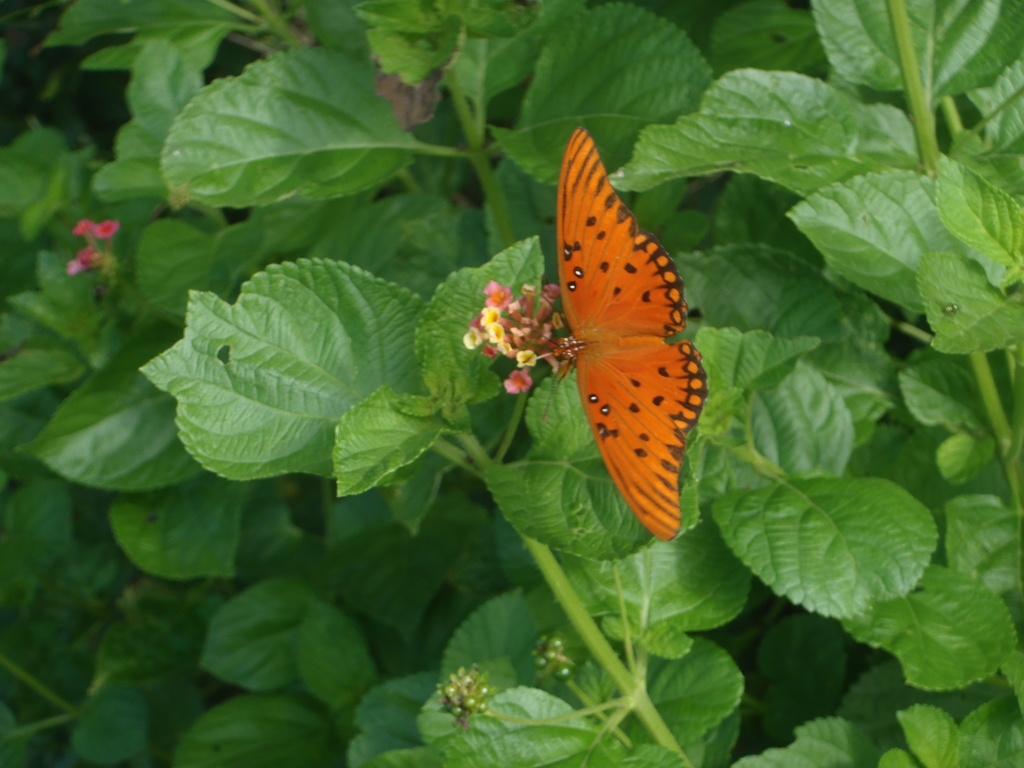Butterfly: (527, 104, 731, 558)
